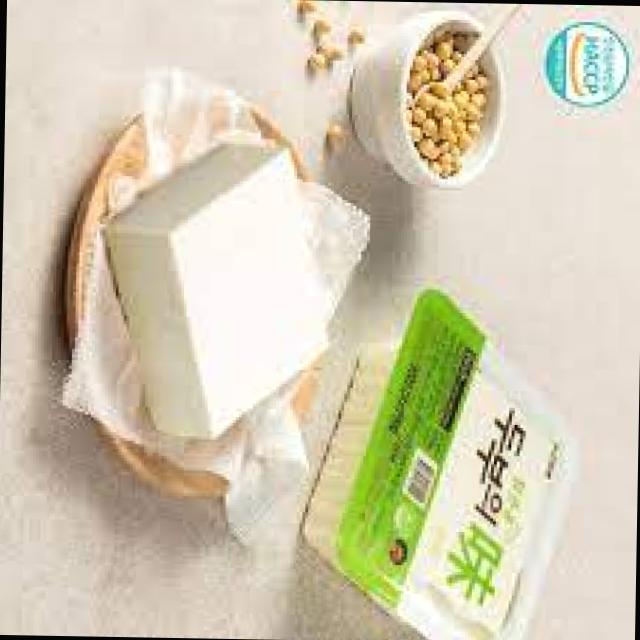tof: (94, 123, 322, 449)
